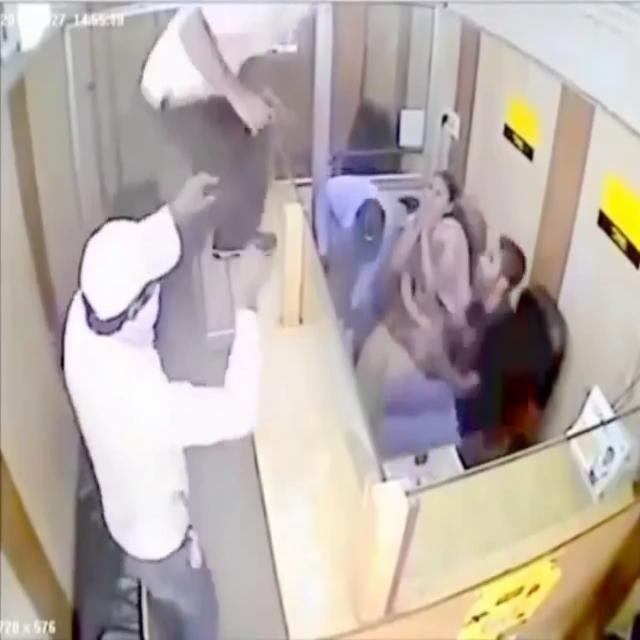weapon: (248, 82, 298, 142)
